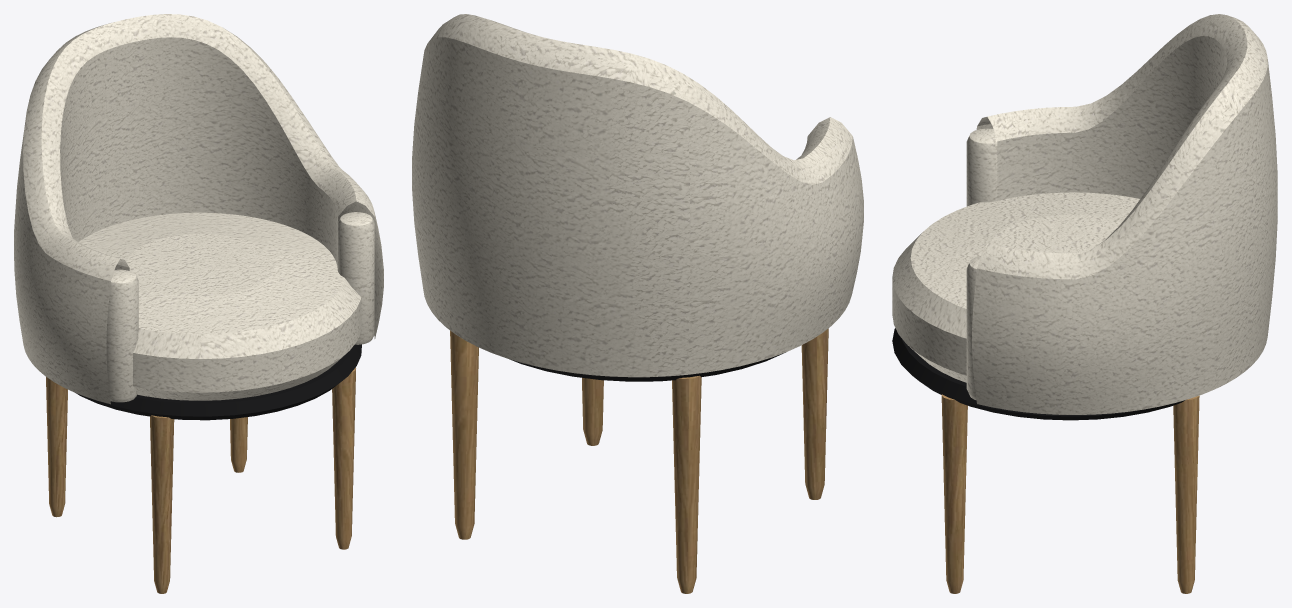
The model's file is tub_boucle.glb.
3 renders of one model, left to right at view 1: azimuth 30°, elevation 25°; view 2: azimuth 150°, elevation 25°; view 3: azimuth 270°, elevation 25°, orthographic. The views are drawn at different scales.
Parts seen in each view (by area): view 1: tub_boucle; view 2: tub_boucle; view 3: tub_boucle.
Boxes of the visible parts, x1,y1,x2,y2 form: tub_boucle: [14, 14, 383, 593]; tub_boucle: [412, 14, 863, 593]; tub_boucle: [892, 14, 1277, 593].
Bounding box in the file's own units: 0.5992 × 0.808 × 0.5663.
Materials: 3 (2 with a texture image).
